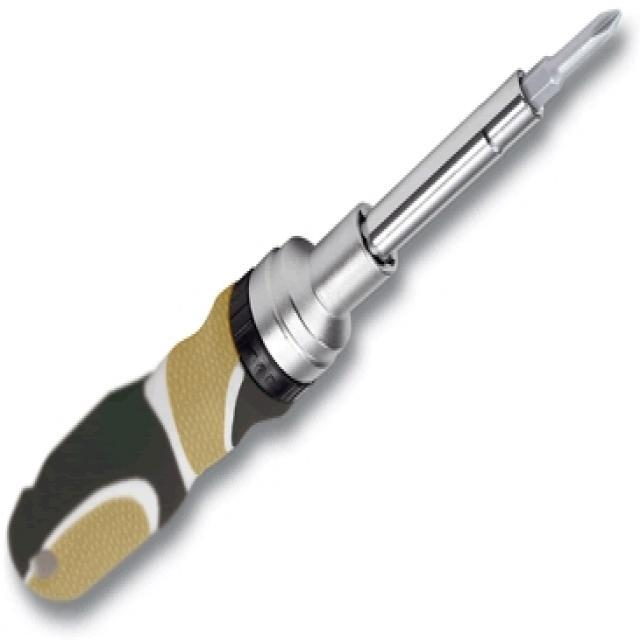screwdriver: (0, 0, 635, 596)
